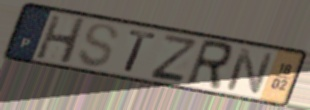H: (33, 13, 89, 67)
N: (224, 46, 276, 97)
R: (183, 37, 236, 92)
S: (76, 22, 121, 69)
T: (122, 28, 159, 75)
Z: (148, 32, 199, 83)
